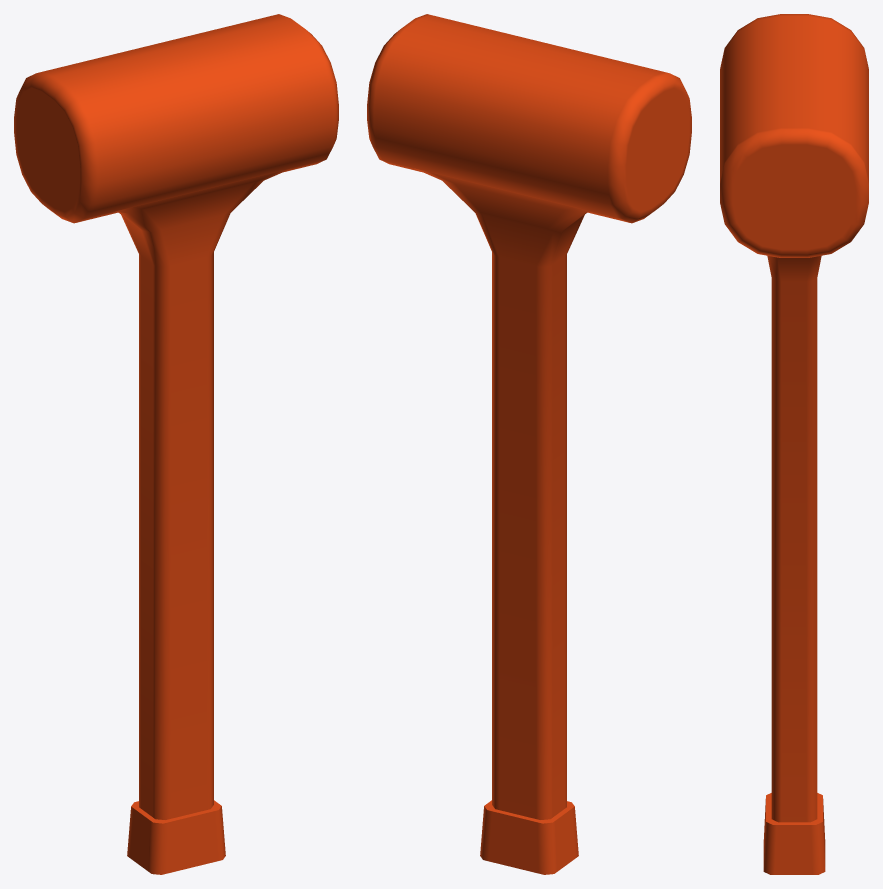
The model's file is mallet.fbx.
3 views of the same model, side by side, from view 1: azimuth 30°, elevation 25°; view 2: azimuth 150°, elevation 25°; view 3: azimuth 270°, elevation 25° (orthographic). The views are drawn at different scales.
Visible parts, largest first — view 1: Cube.001; view 2: Cube.001; view 3: Cube.001.
Boxes of the visible parts, x1,y1,x2,y2 form: Cube.001: (14,14,338,874); Cube.001: (367,14,691,874); Cube.001: (720,14,868,874).
Size of the model in its own units: 11.7 by 35 by 6.01.
